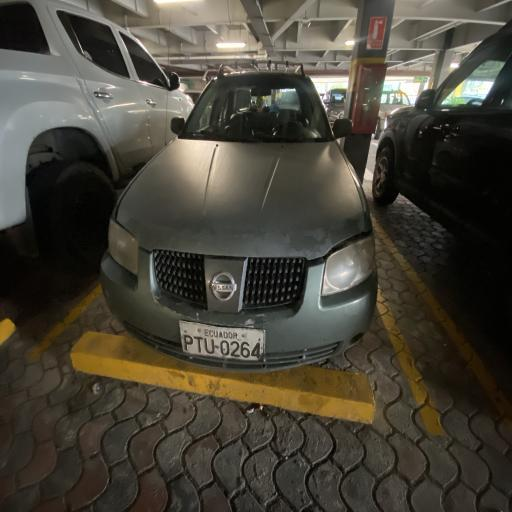license_plate: (203, 336, 216, 354), (194, 335, 204, 355), (182, 335, 193, 353), (240, 341, 251, 358), (230, 340, 240, 358), (251, 341, 261, 359), (220, 339, 230, 356)
